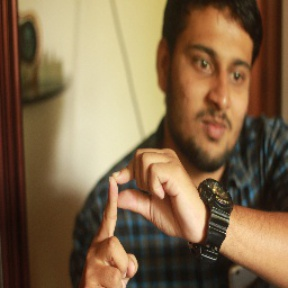P: (81, 145, 196, 288)
